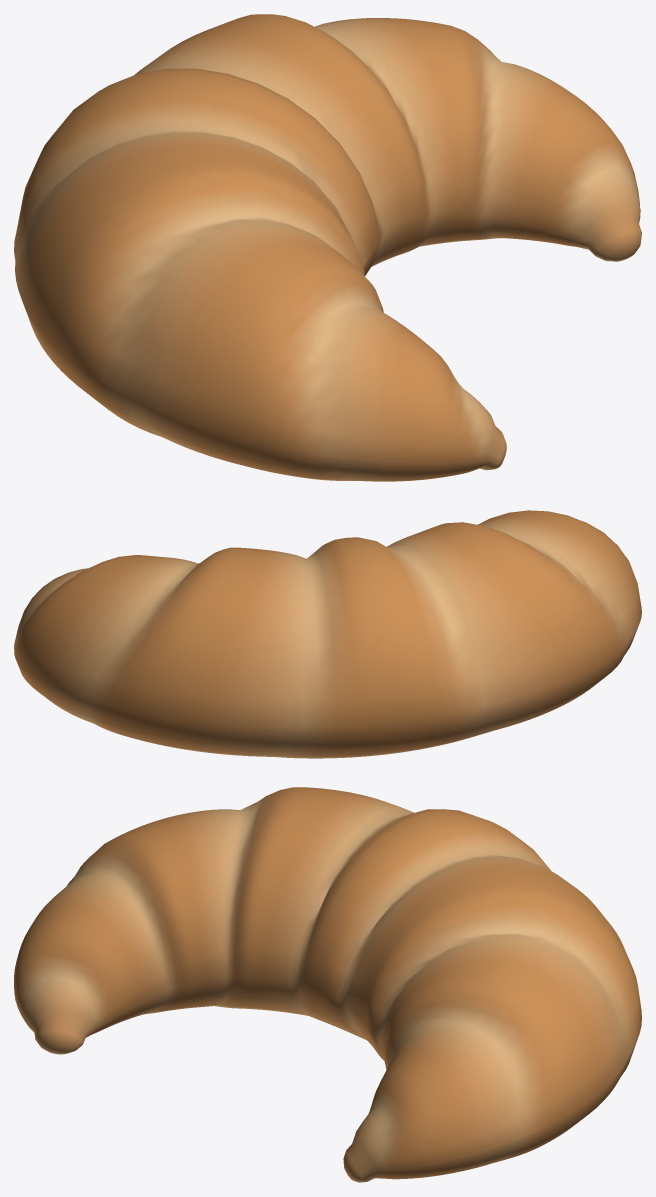
File: model-DuC8-a0A.glb
3 views of the same model, one above another, from view 1: azimuth 30°, elevation 25°; view 2: azimuth 150°, elevation 25°; view 3: azimuth 270°, elevation 25° (orthographic). The views are drawn at different scales.
Parts seen in each view (by area): view 1: croissant_body; view 2: croissant_body; view 3: croissant_body.
Part boxes in pixels (left/top/right/bottom): croissant_body: left=14, top=14, right=641, bottom=481; croissant_body: left=14, top=510, right=641, bottom=758; croissant_body: left=14, top=787, right=641, bottom=1182.
Bounding box in the file's own units: 0.1333 × 0.0474 × 0.1333.
1 material, 1 textured.
